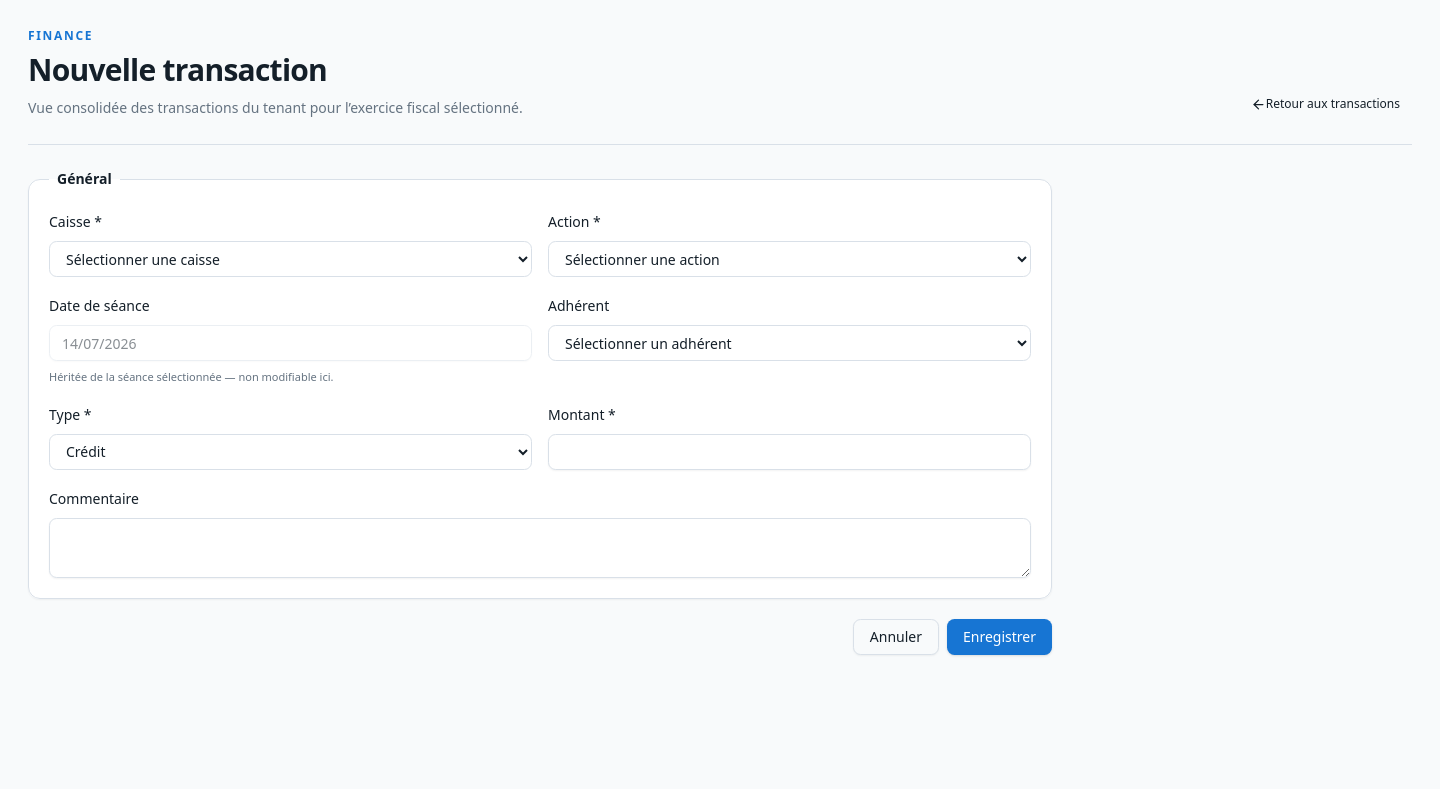
Finance → Transactions — saisie (journal central) › § PRÊT : la règle unique du tenant n’exige ni garant ni approbation → pas de bloc Garantie ni Approbation
This screenshot has width=1440, height=789.
Step 1. Select "Épargne" in the dropdown labelled "Caisse *" → (290,259), box [49,241,532,277]
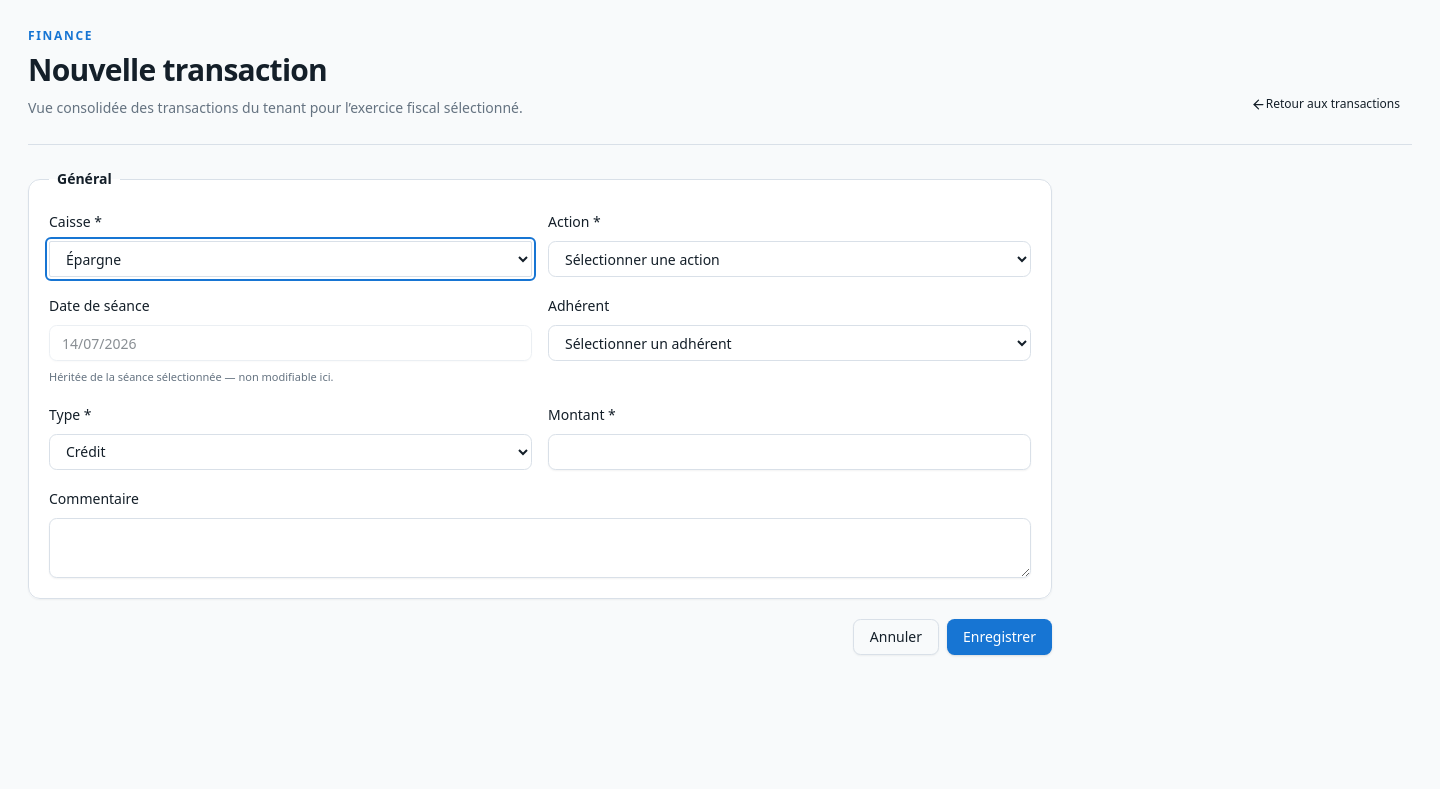
Step 2. Select "Emprunter" in the dropdown labelled "Action *" → (790,259), box [548,241,1031,277]
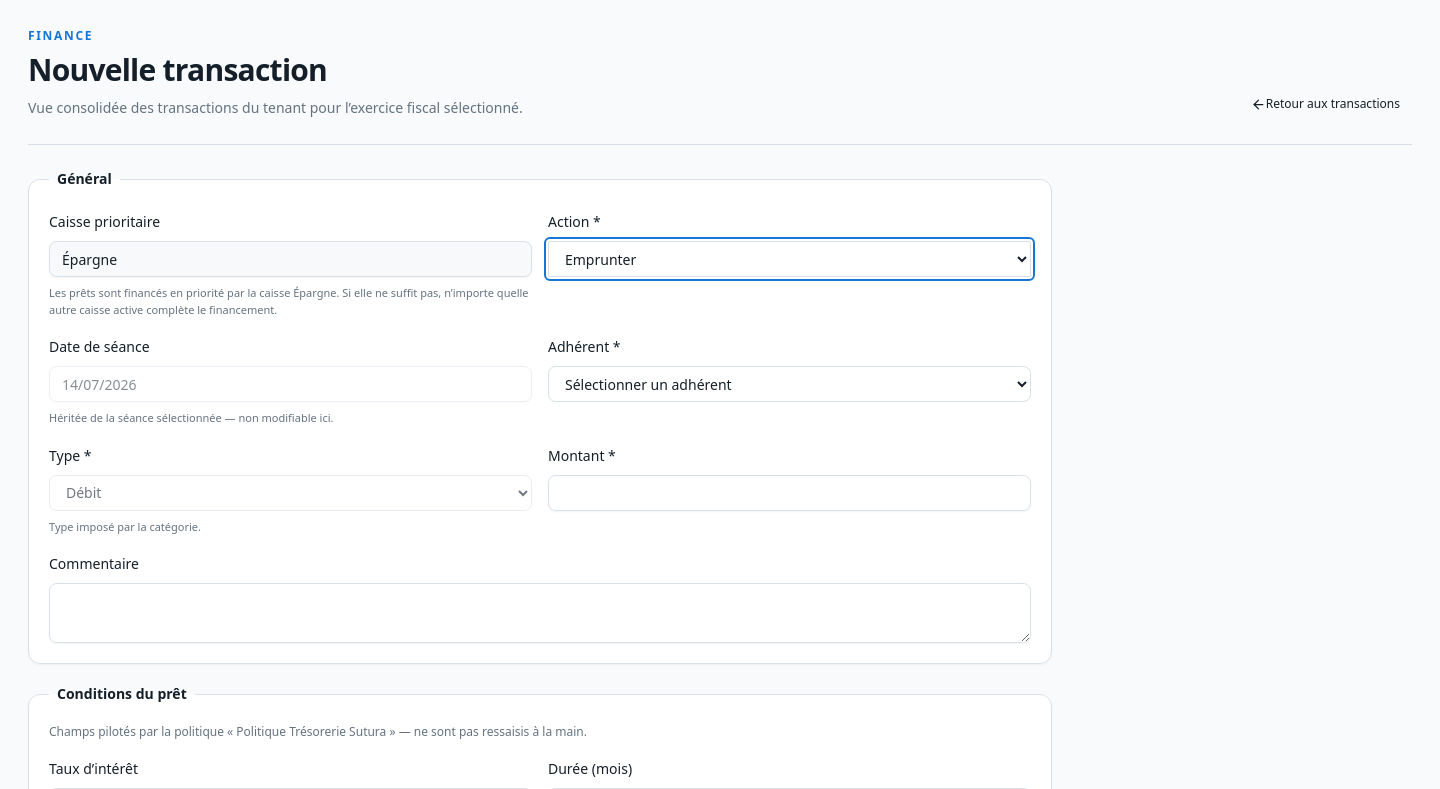
Check: the text "Conditions du prêt" is shown, box [49,684,195,704]
